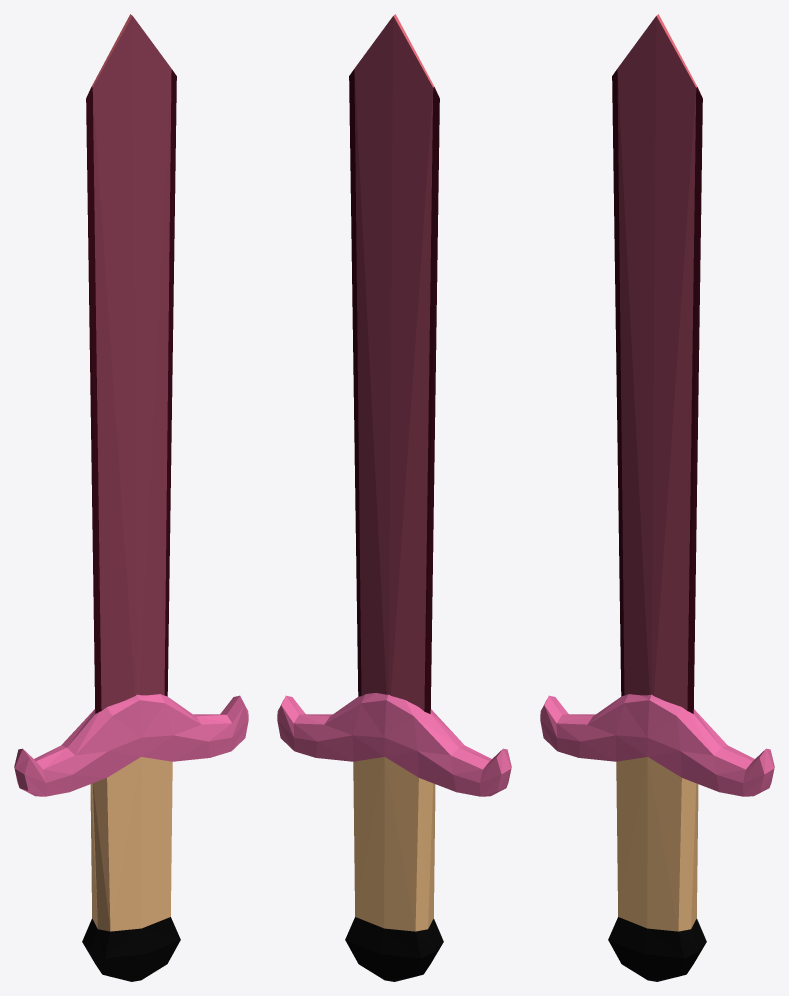
The model's file is swordiplier-by-joney-lol-WeTr0p3WBp.glb.
The picture shows the model from 3 angles, left to right: view 1: azimuth 30°, elevation 25°; view 2: azimuth 150°, elevation 25°; view 3: azimuth 330°, elevation 25°; orthographic projection.
Parts seen in each view (by area): view 1: Swordiplier_Swordiplier_Cube.002; view 2: Swordiplier_Swordiplier_Cube.002; view 3: Swordiplier_Swordiplier_Cube.002.
Boxes of the visible parts, <box> form: Swordiplier_Swordiplier_Cube.002: <box>14,14,248,981</box>; Swordiplier_Swordiplier_Cube.002: <box>277,14,511,981</box>; Swordiplier_Swordiplier_Cube.002: <box>540,14,774,981</box>.
Size of the model in its own units: 0.8721 by 3.45 by 0.1798.
Materials: 1 (1 with a texture image).
